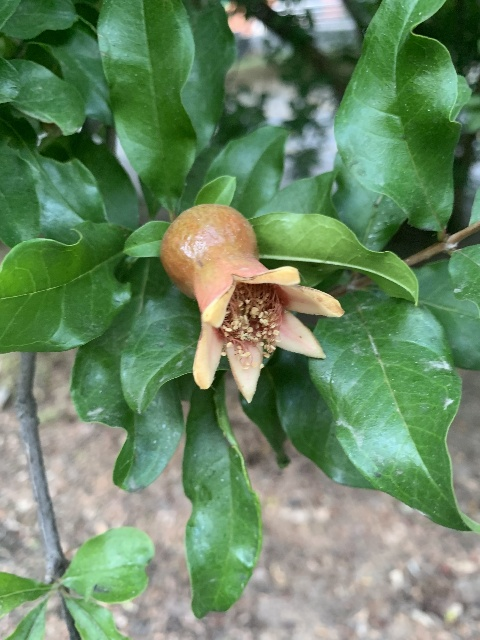early-fruit: (159, 204, 343, 403)
